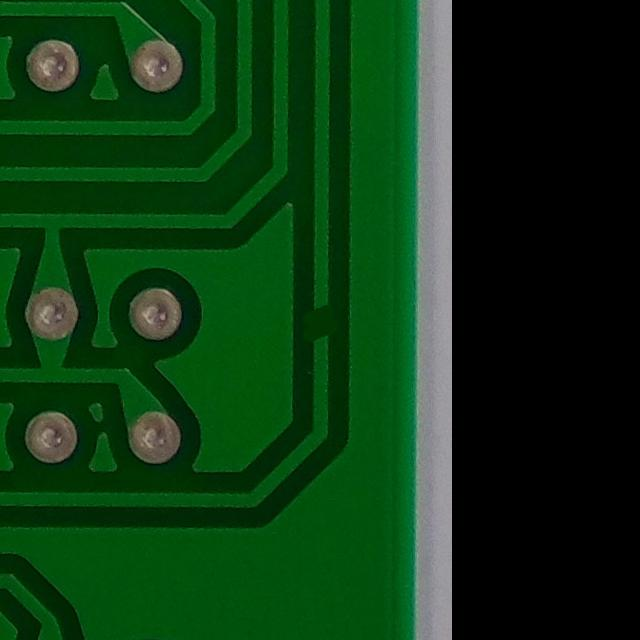open_circuit: (300, 284, 340, 357)
